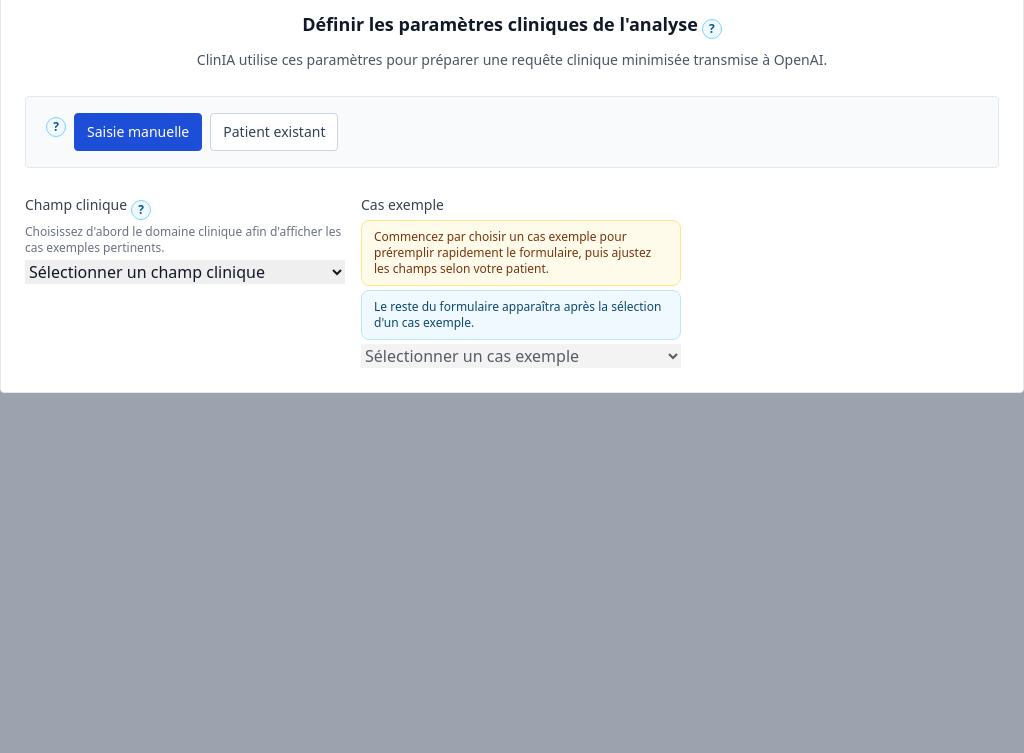
ClinicalForm › fills the form when an example case is selected
Select "Oncologie" in the dropdown labelled "Champ clinique". click: (185, 272)
box: [25,260,345,284]
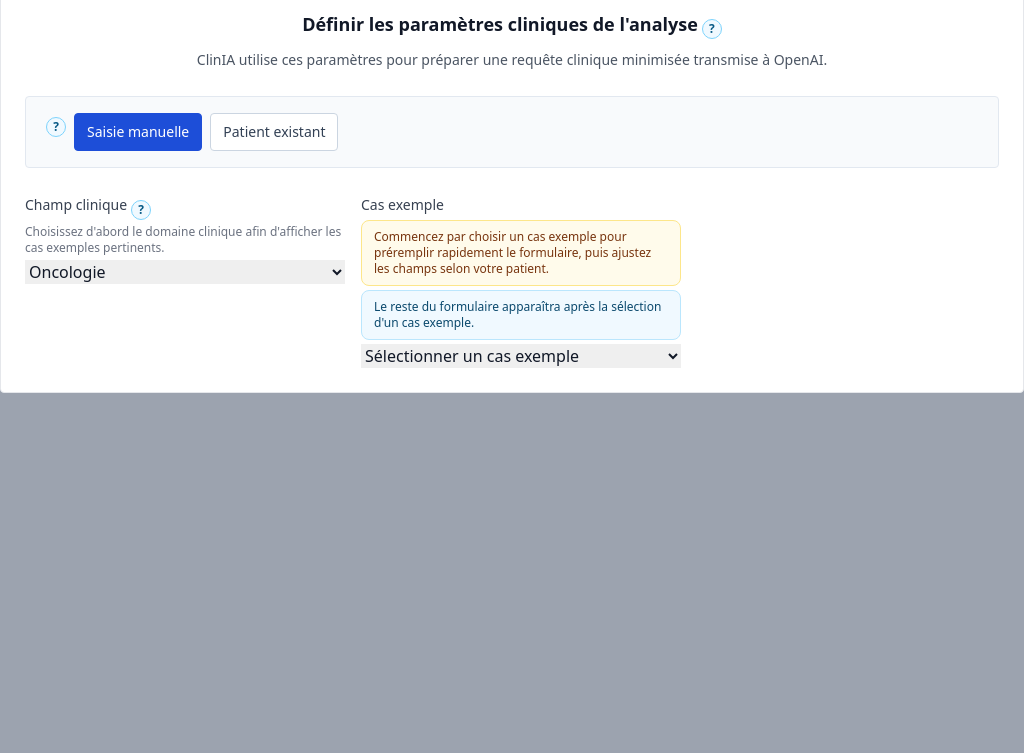
Select "Gastric cancer" in the dropdown labelled "Cas exemple". click: (521, 356)
box: [361,344,681,368]
(page scrolled)
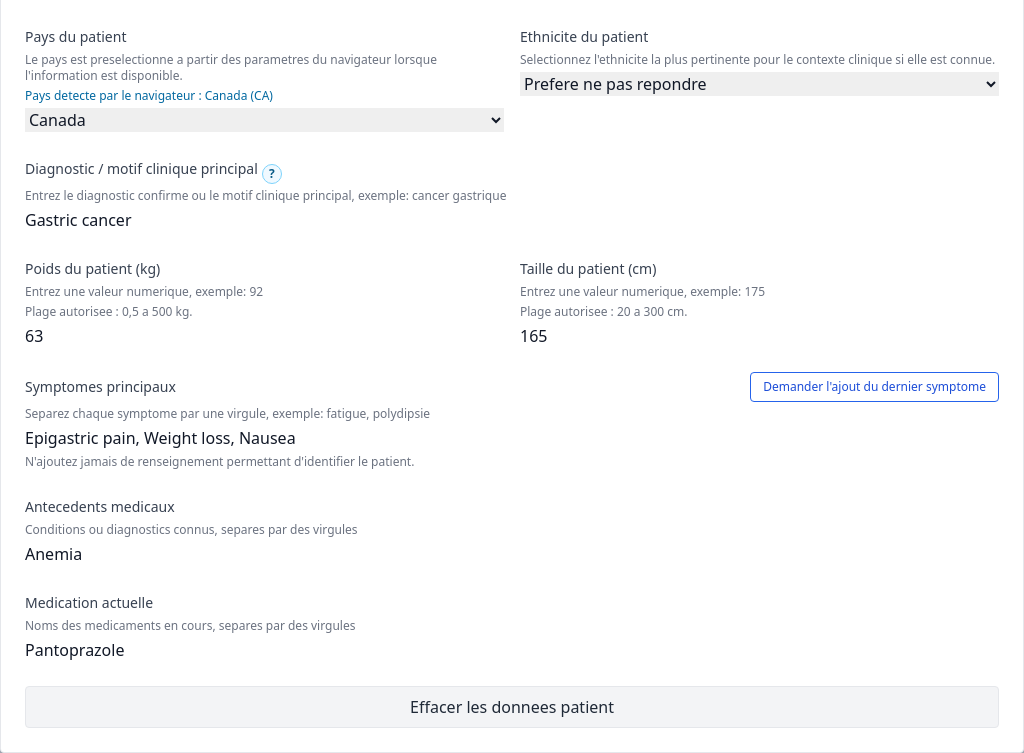
Check: the field labelled "Diagnostic / motif clinique principal" holds "Gastric cancer", box [25,208,999,232]
Check: the field labelled "Antecedents medicaux" holds "Anemia", box [25,542,999,566]
